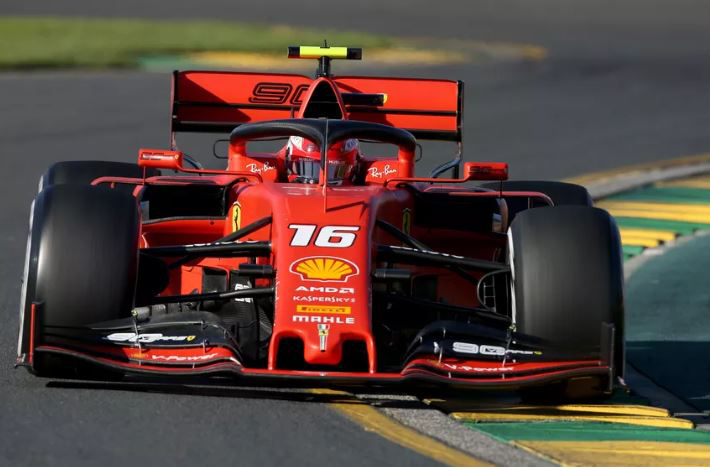F1 Car: (9, 36, 636, 407)
